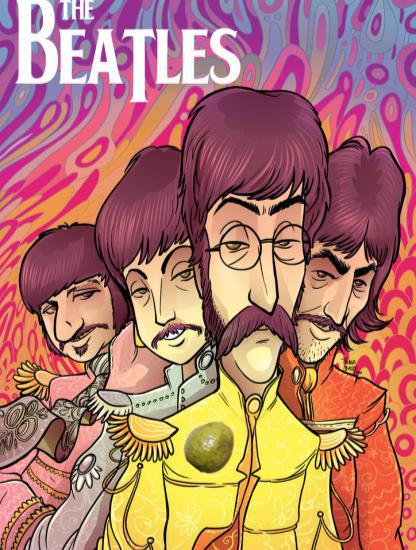Guava: (184, 419, 239, 474)
